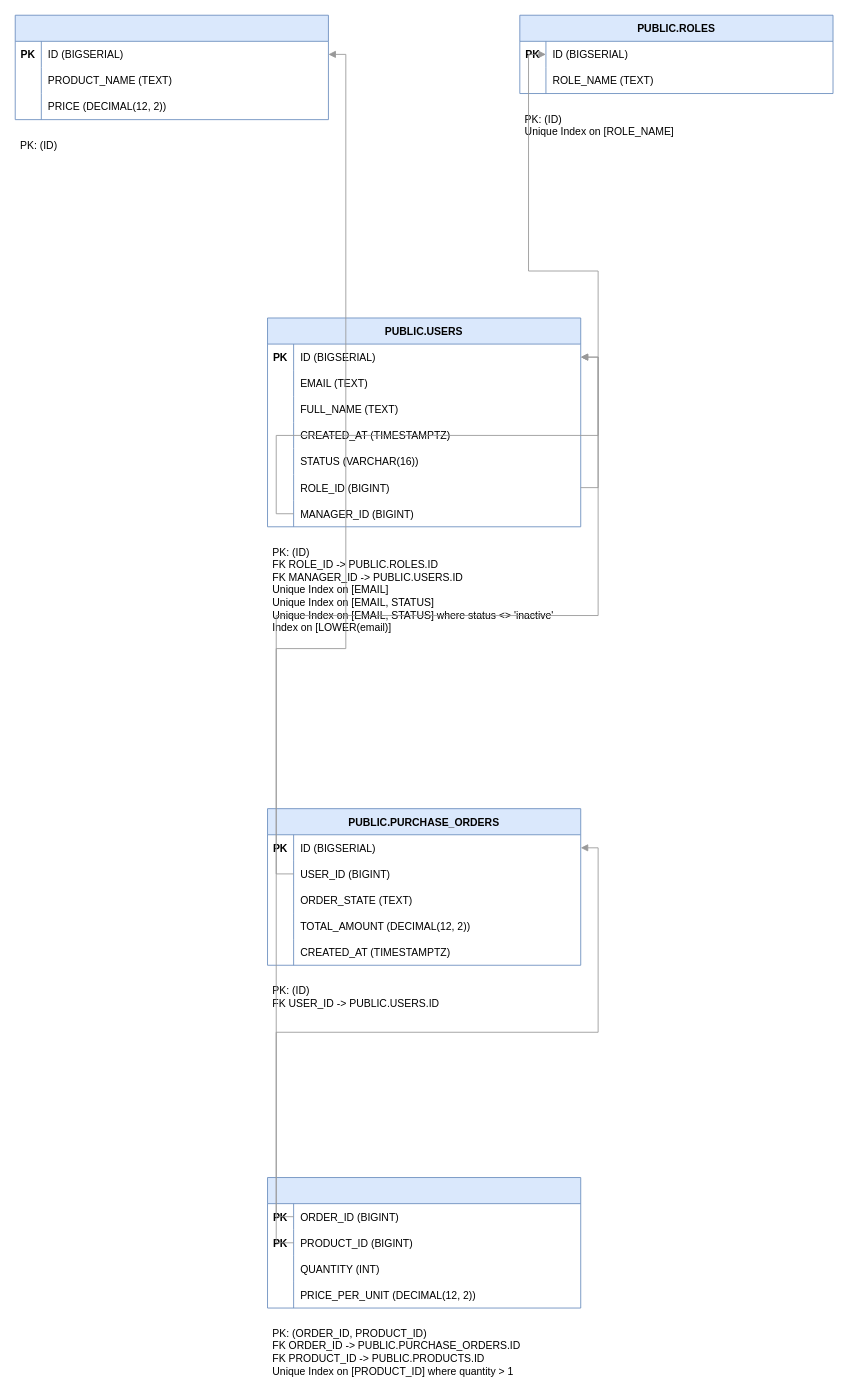
The diagram is 848 pixels wide and 1394 high, and some of its shapes have lost their labels. The shapes that lost their labels are listed below. From the top down, each one's box as (x1, y1, x2, y2) in pixels, then its label:
(14, 14, 328, 120): PUBLIC.PRODUCTS
(267, 1177, 581, 1308): PUBLIC.ORDER_ITEMS
